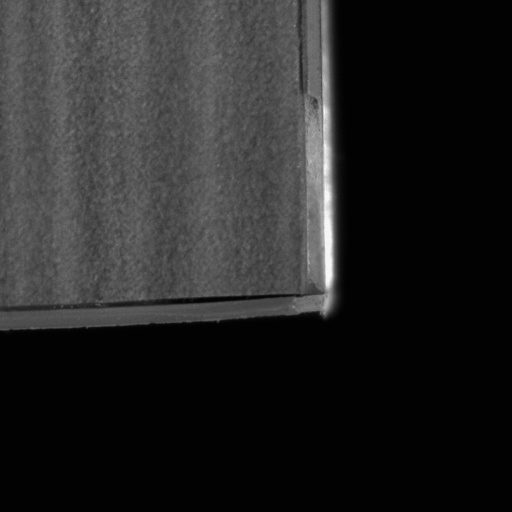jiaofeng: (0, 289, 303, 312)
